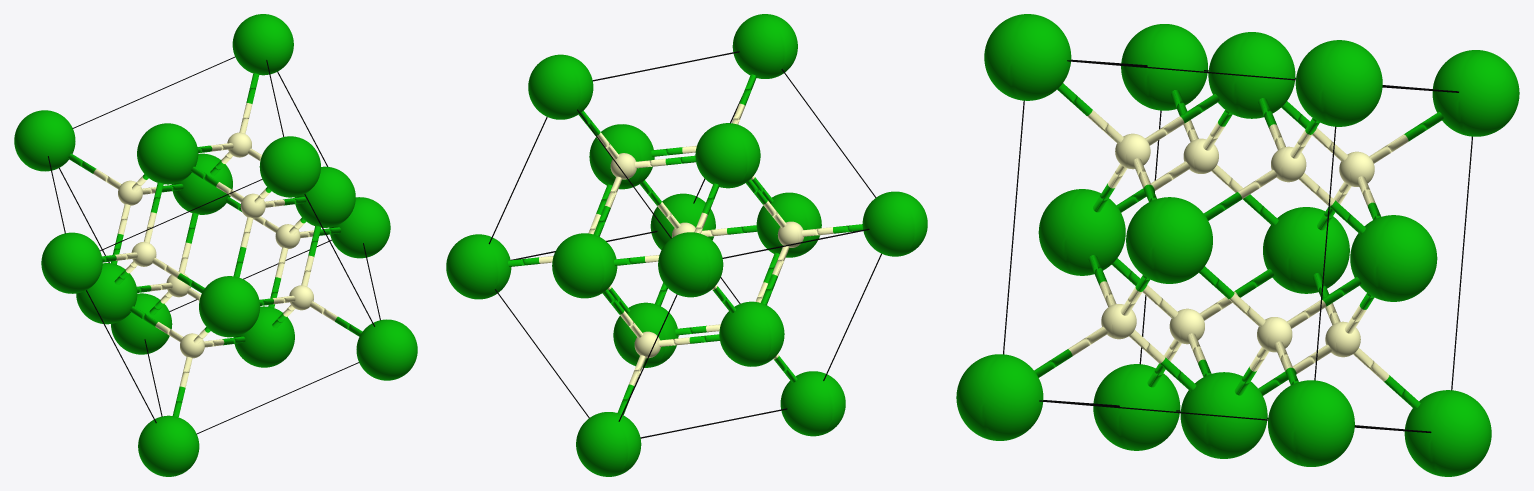
File: CaF₂.glb
3 views of the same model, side by side, from view 1: azimuth 30°, elevation 25°; view 2: azimuth 150°, elevation 25°; view 3: azimuth 270°, elevation 25° (orthographic). The views are drawn at different scales.
Visible parts, largest first — view 1: UnitCellSegment_0; view 2: UnitCellSegment_0; view 3: UnitCellSegment_0.
Part boxes in pixels (x1,y1,x2,y2): UnitCellSegment_0: [14, 14, 417, 476]; UnitCellSegment_0: [446, 14, 927, 476]; UnitCellSegment_0: [956, 14, 1519, 476].
Bounding box in the file's own units: 1.03 × 0.9143 × 0.9013.
